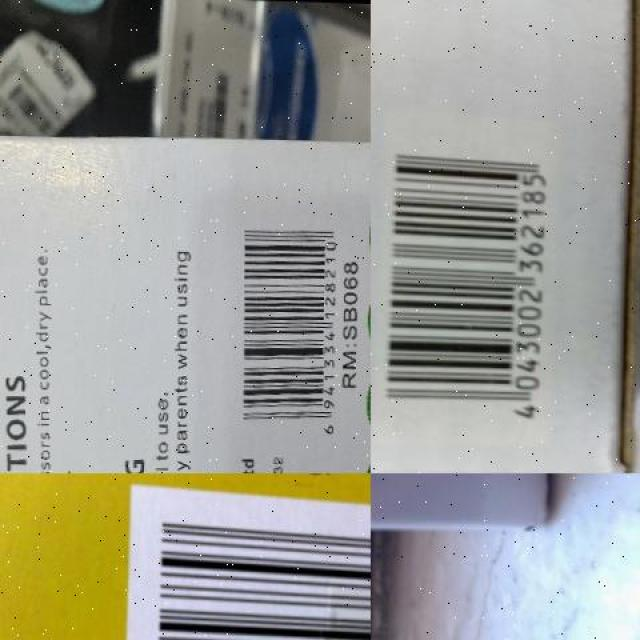Barcode: (375, 113, 561, 447), (117, 484, 371, 640), (230, 205, 341, 442)
